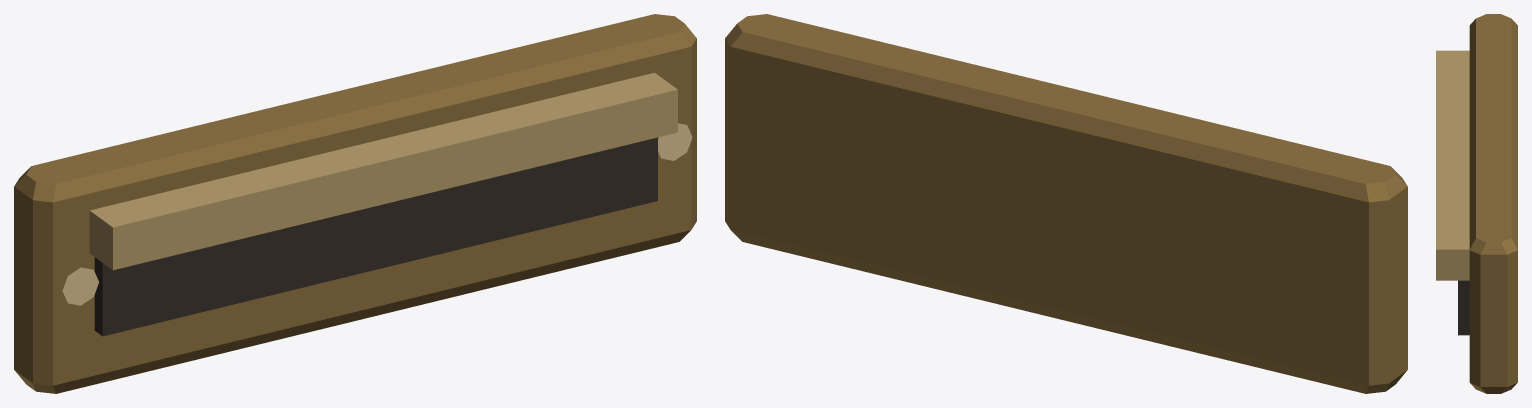
The model's file is door_letter_slot.glb.
3 views of the same model, side by side, from view 1: azimuth 30°, elevation 25°; view 2: azimuth 150°, elevation 25°; view 3: azimuth 270°, elevation 25° (orthographic). The views are drawn at different scales.
Visible parts, largest first — view 1: door_letter_slot; view 2: door_letter_slot; view 3: door_letter_slot.
Boxes of the visible parts, bbox=[...] form: door_letter_slot: bbox=[14, 14, 696, 393]; door_letter_slot: bbox=[725, 14, 1407, 393]; door_letter_slot: bbox=[1436, 14, 1517, 393].
Size of the model in its own units: 0.47 by 0.142 by 0.0695.
